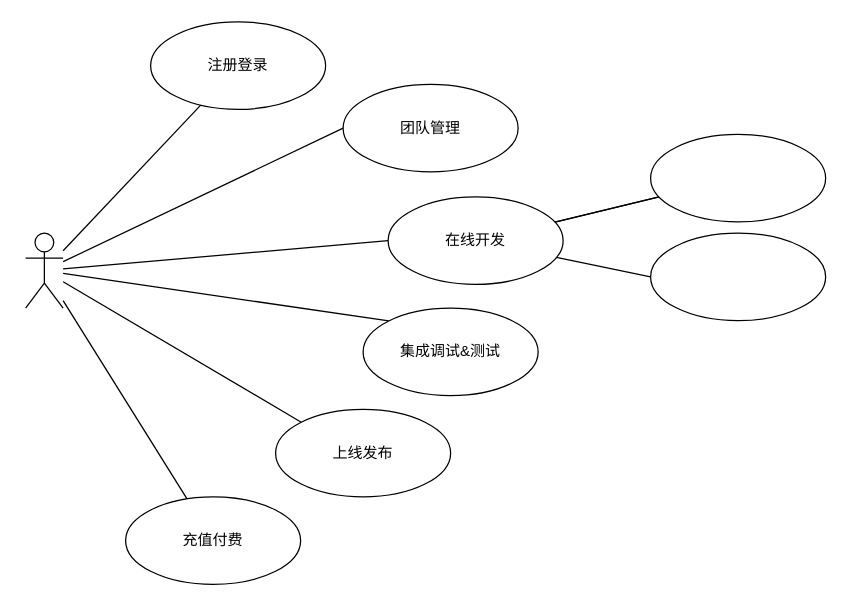
The diagram is 848 pixels wide and 606 high, and some of its shapes have lost their labels. The shapes that lost their labels are listed below. From the top down, each one's box as (x1, y1, x2, y2) in pixels, then its label:
(649, 133, 826, 222): 工作空间管理
(24, 232, 63, 308): 开发者
(649, 232, 826, 321): 使用WEB IDE
